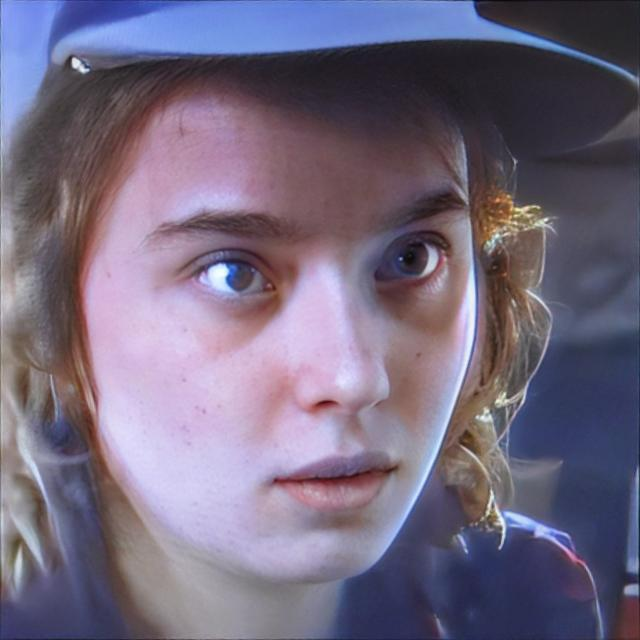fear: (89, 85, 484, 589)
